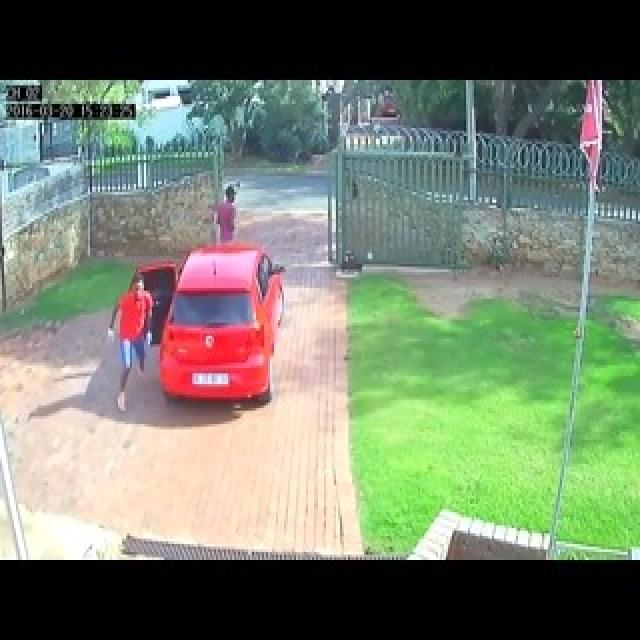thief: (108, 268, 156, 366), (204, 176, 243, 251)
